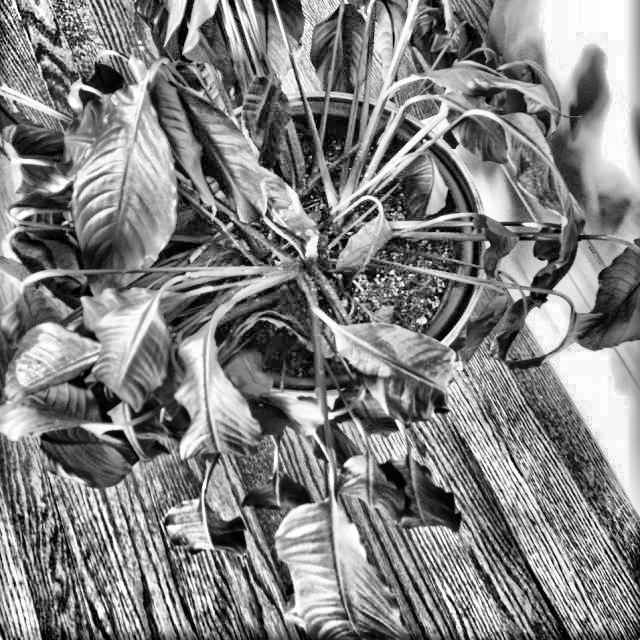plants: (11, 18, 640, 536)
